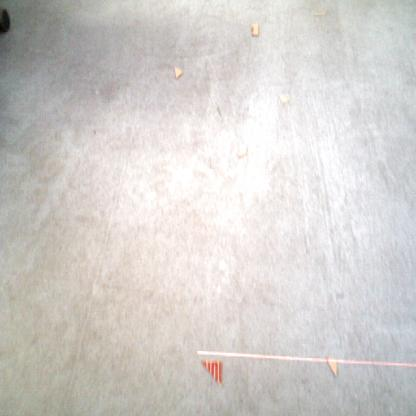dirty: (199, 358, 223, 387), (325, 355, 340, 378), (277, 94, 290, 106), (238, 146, 249, 160), (173, 65, 183, 79), (250, 23, 260, 37), (312, 10, 326, 16)
mark: (302, 234, 310, 254), (335, 291, 345, 301), (216, 104, 222, 117), (208, 160, 214, 171), (92, 127, 97, 136)
